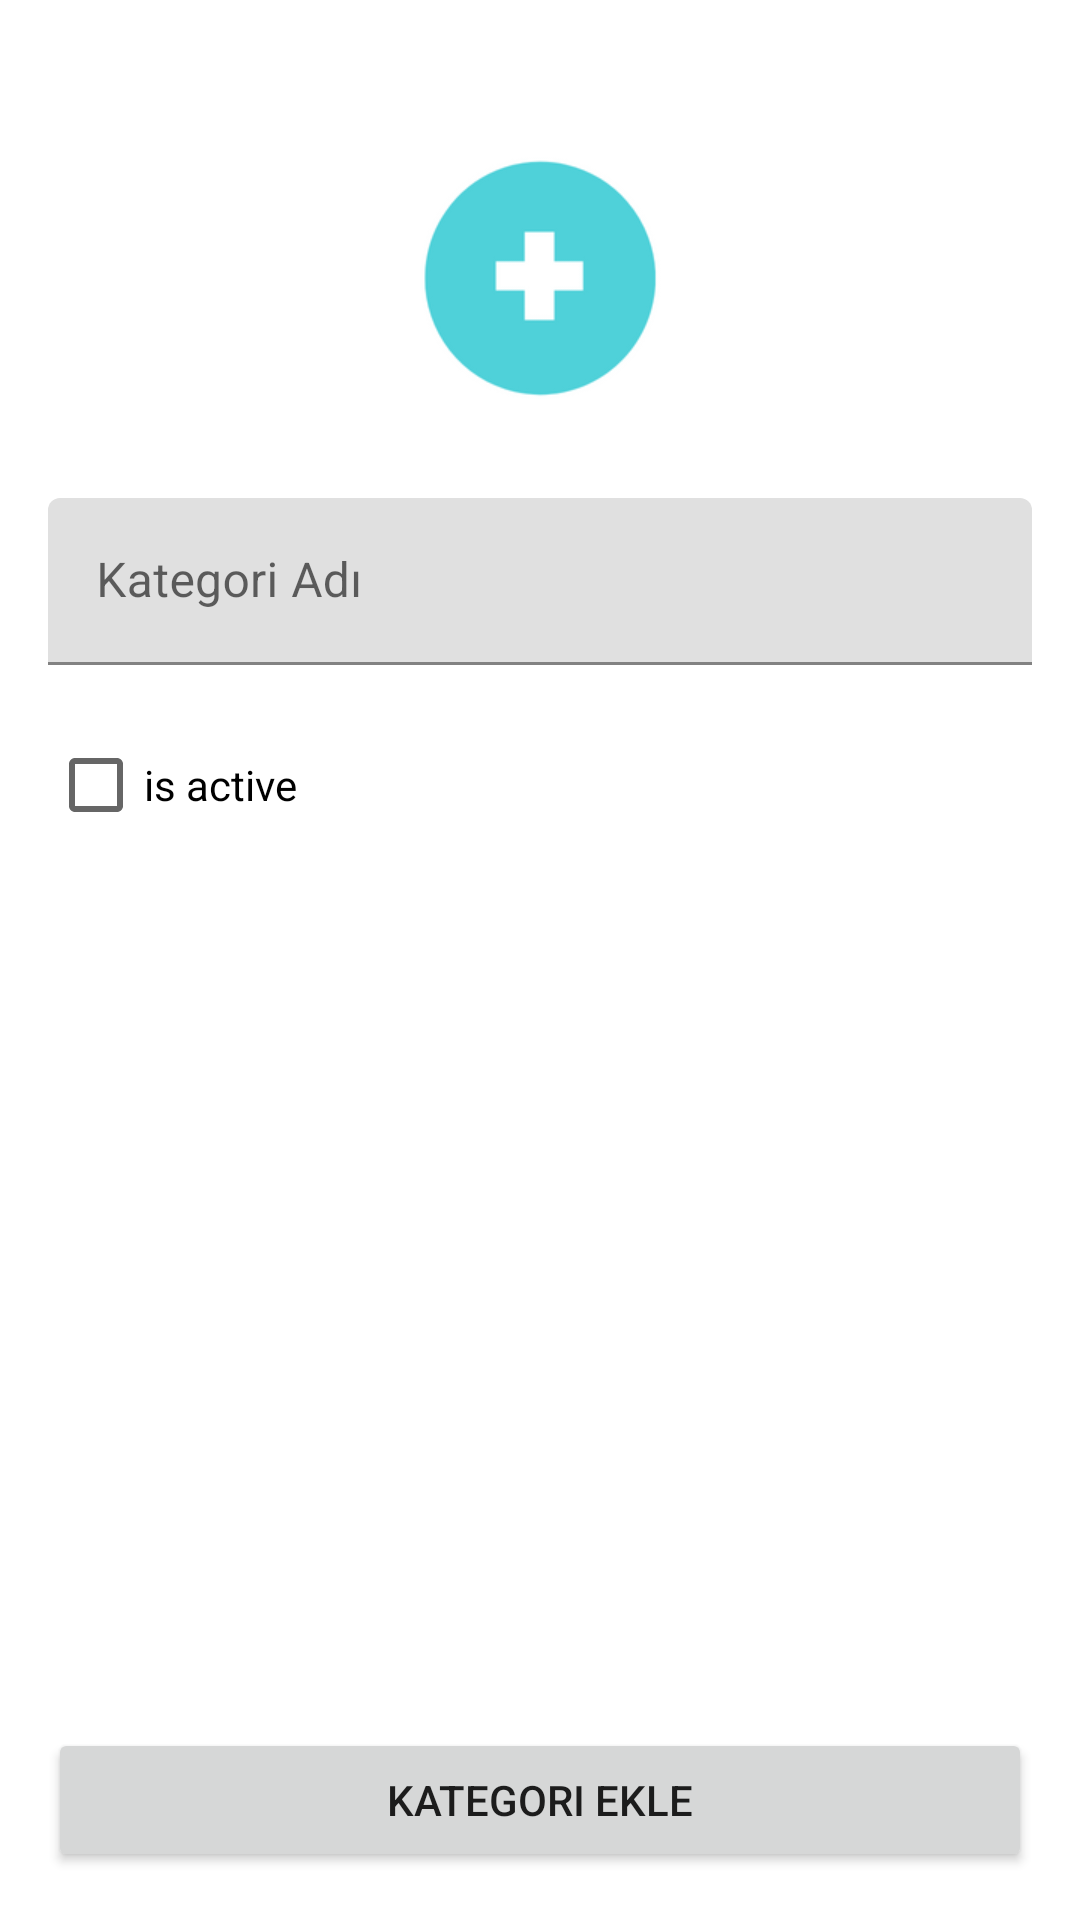

Icon click points for this 1080px x 1920px phone screenshot, format (x,y):
add: (540,278)
